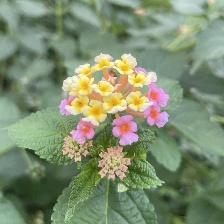common lanthana: (61, 53, 173, 148)
